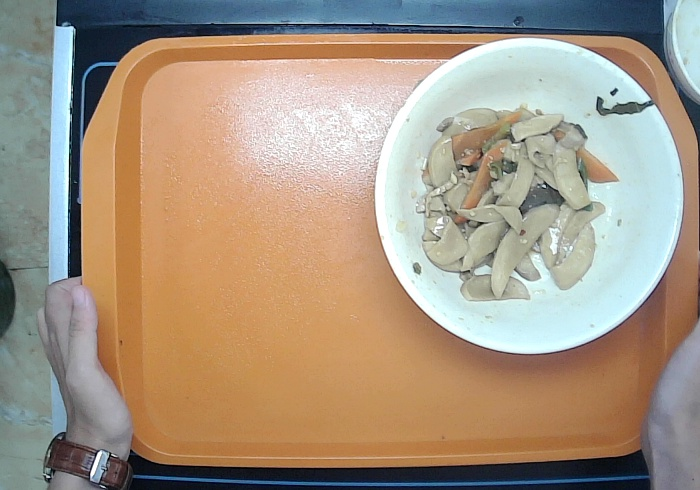ZNLD-Da_Tang_Wan: (349, 25, 690, 372)
